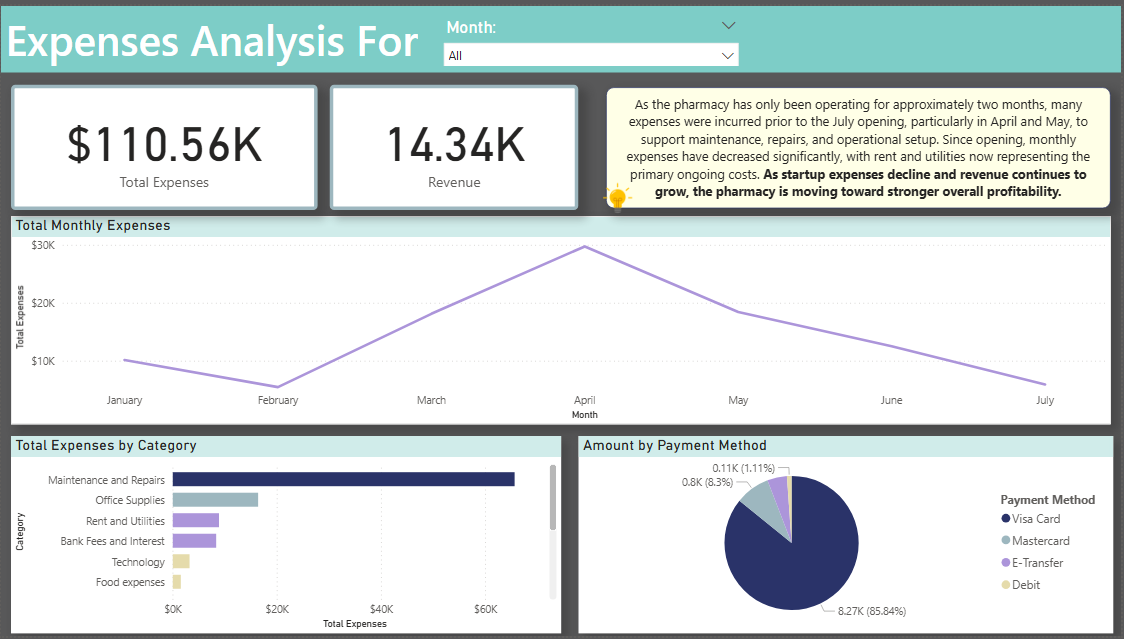

What the dashboard file says about the page in this screenshot:
{"tool":"powerbi","page":{"name":"Expense Analysis","canvas":[1280,720],"ordinal":3},"visuals":[{"type":"lineChart","title":"Total Monthly Expenses","fields":{"Y":["Sum(All Expenses.Total Expenses)"],"Category":["Calendar.Month Name"]},"box":[11.4,240,1257.1,238.6],"z":0},{"type":"textbox","box":[0,0,1280,75.7],"z":1000},{"type":"clusteredBarChart","title":"Total Expenses by Category","fields":{"Category":["All Expenses.Category"],"Y":["Sum(All Expenses.Total (CAD))"]},"box":[11.4,491.4,628.6,225.7],"z":2000},{"type":"card","fields":{"Values":["Sum(All Expenses.Total (CAD))"]},"box":[11.4,90,350,142.9],"z":3000},{"type":"pieChart","fields":{"Category":["All Expenses.Payment Method"],"Y":["Sum(All Expenses.Amount (CAD))"]},"box":[660,491.4,611.4,225.7],"z":4000},{"type":"textbox","box":[691.4,92.9,577.1,138.6],"z":5000},{"type":"image","box":[677.1,187.1,55.7,64.3],"z":6000},{"type":"slicer","fields":{"Values":["Calendar.Month Name"]},"box":[495.7,8.6,357.1,60],"z":7000},{"type":"card","fields":{"Values":["aa_Measure Table.Revenue"]},"box":[375.7,90,284.3,142.9],"z":8001}]}

Visuals, with their boxes in screenshot pixels (x1, y1, x2, y2), scaled from the page's 1280x720 canvas onto the 1124x639 screenshot:
"Total Monthly Expenses" lineChart: bbox=[10, 213, 1114, 425]
textbox: bbox=[0, 0, 1123, 67]
"Total Expenses by Category" clusteredBarChart: bbox=[10, 436, 562, 636]
card - Sum(All Expenses.Total (CAD)): bbox=[10, 80, 317, 207]
pieChart - All Expenses.Payment Method x Sum(All Expenses.Amount (CAD)): bbox=[580, 436, 1116, 636]
textbox: bbox=[607, 82, 1114, 205]
image: bbox=[595, 166, 643, 223]
slicer - Calendar.Month Name: bbox=[435, 8, 749, 61]
card - aa_Measure Table.Revenue: bbox=[330, 80, 580, 207]
